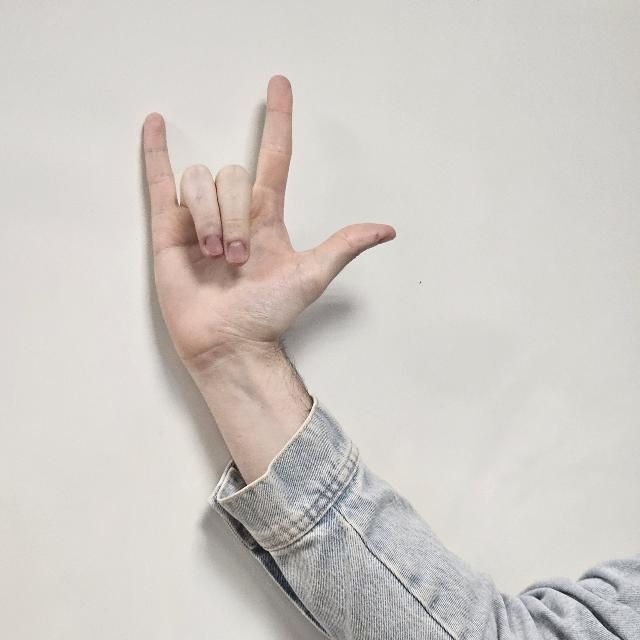Cima: (138, 70, 396, 370)
